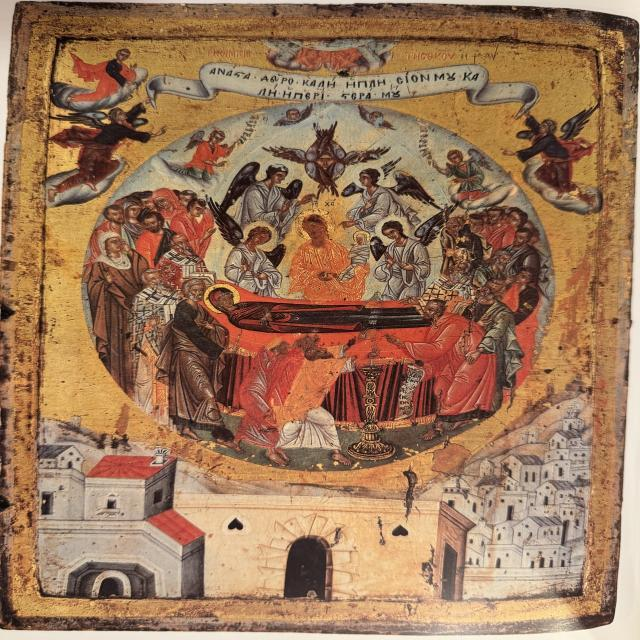angel: (513, 114, 599, 217), (57, 105, 169, 184), (204, 199, 290, 295), (371, 205, 452, 292), (421, 143, 506, 207), (228, 158, 312, 216), (347, 167, 425, 221), (181, 128, 248, 177)
aura: (295, 205, 337, 239), (203, 284, 243, 310), (379, 212, 410, 244), (245, 222, 279, 247), (260, 160, 292, 186), (355, 165, 387, 190)
christ: (288, 208, 370, 308)
church_father: (133, 267, 181, 421), (159, 233, 205, 281)
cloud: (521, 158, 602, 224), (60, 66, 155, 109), (52, 160, 134, 206), (151, 157, 222, 191), (450, 189, 521, 210)
mary_dead: (206, 290, 434, 335)
scroll: (394, 356, 428, 422)
wing: (220, 161, 262, 213), (393, 167, 443, 209), (415, 202, 456, 247), (205, 193, 242, 241), (566, 96, 604, 138), (52, 109, 111, 127), (181, 132, 209, 156), (470, 149, 496, 174), (268, 242, 294, 266), (280, 179, 308, 201), (369, 236, 391, 262), (339, 184, 365, 198)
